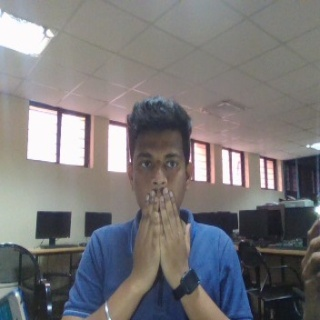Thank You: (132, 189, 197, 298)
